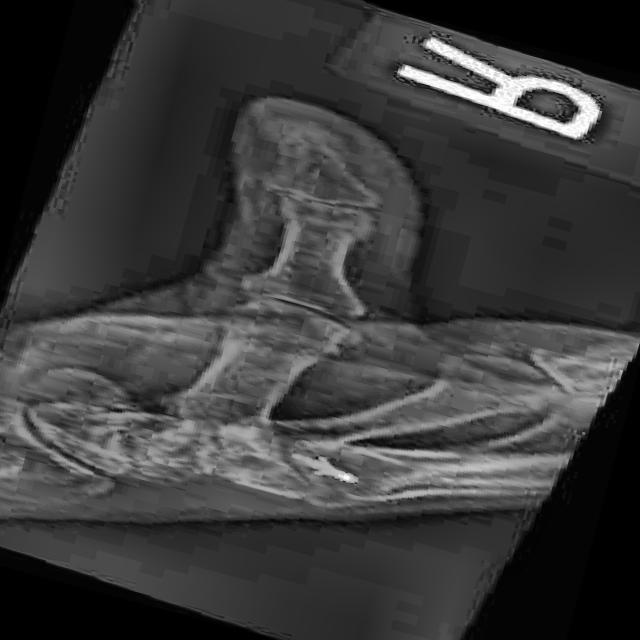fingers positive: (269, 184, 373, 227)
